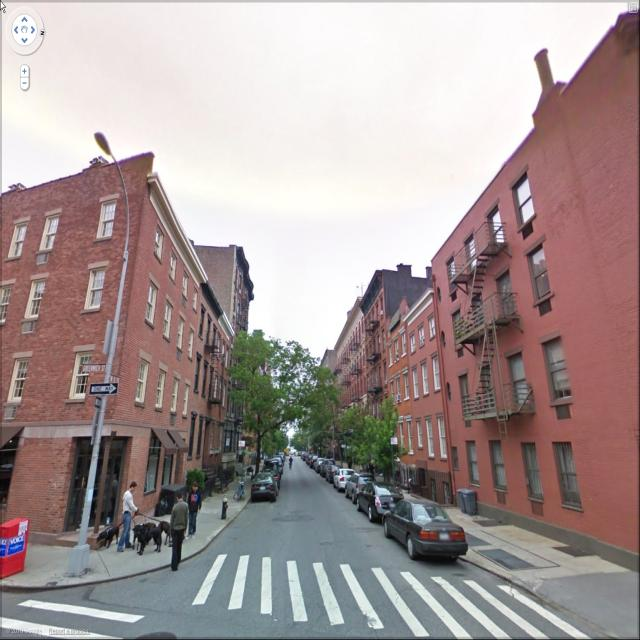b_1: (446, 17, 640, 504), (1, 150, 226, 531), (172, 278, 232, 479), (412, 286, 458, 491), (386, 294, 424, 474), (327, 292, 377, 427), (364, 271, 404, 419)
